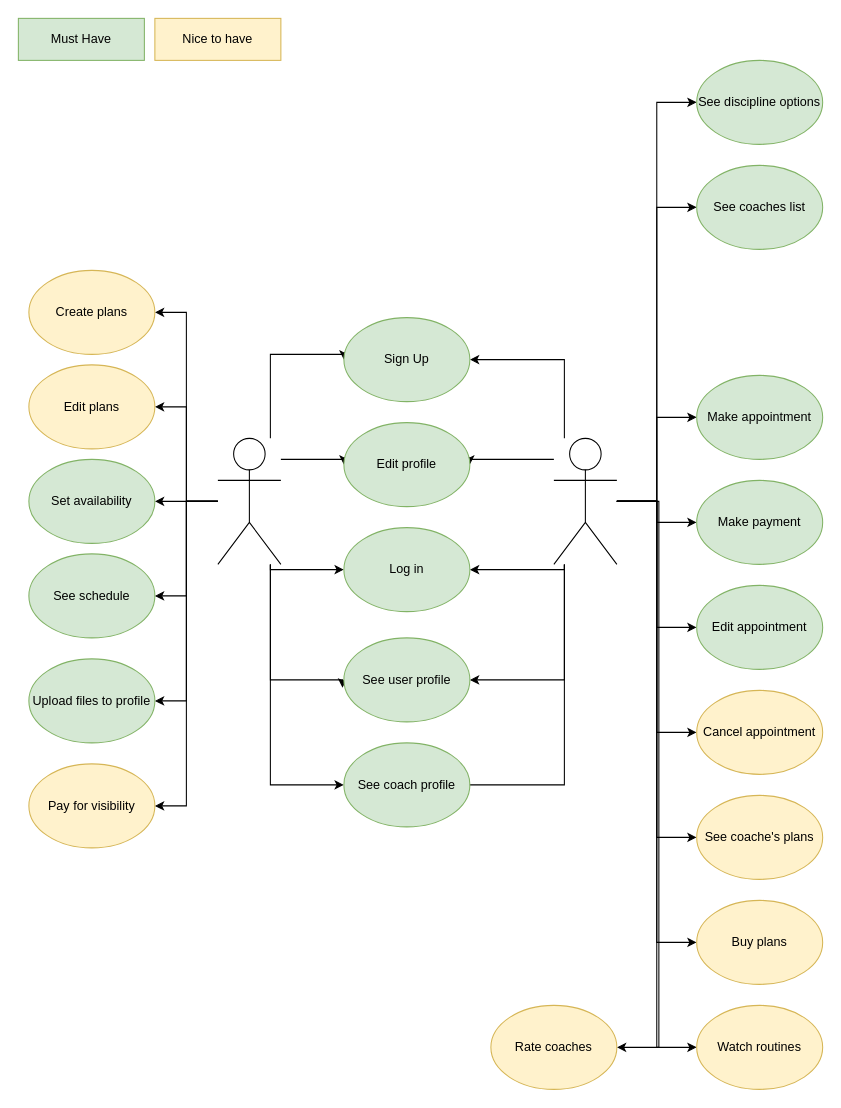
The diagram is 841 pixels wide and 1108 high, and some of its shapes have lost their labels. The centre of each missing label's shape, as x and y in pixels:
"Coach" belongs at point 249,500.
"User" belongs at point 585,500.
